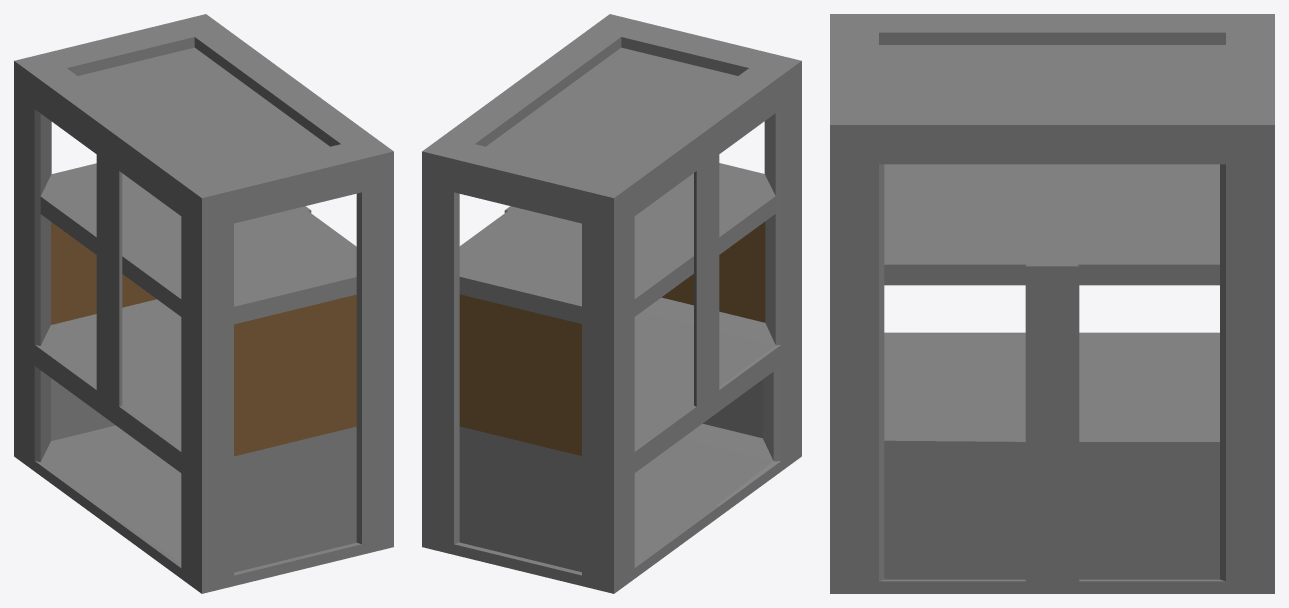
Rendered from Building Damaged.fbx.
The picture shows the model from 3 angles, left to right: view 1: azimuth 30°, elevation 25°; view 2: azimuth 150°, elevation 25°; view 3: azimuth 270°, elevation 25°; orthographic projection. The views are drawn at different scales.
Visible parts, largest first — view 1: Building-Damaged; view 2: Building-Damaged; view 3: Building-Damaged.
Part boxes in pixels (x1,y1,x2,y2): Building-Damaged: (14,14,393,593); Building-Damaged: (422,14,801,593); Building-Damaged: (830,14,1274,593).
Size of the model in its own units: 20000 by 39405 by 33882.
